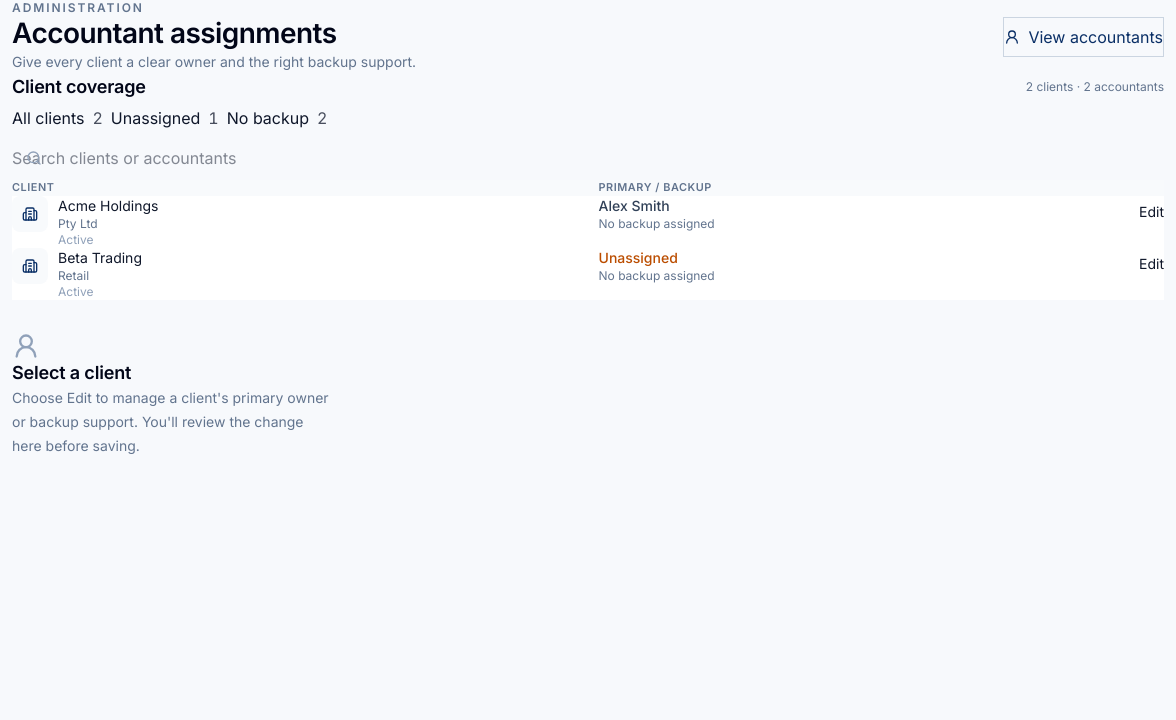
Test: assignment workspace › cancels unsaved changes without a request
Click the button with aria-label "Edit assignment for Acme Holdings" at (1152, 212), box [1139, 196, 1164, 228]
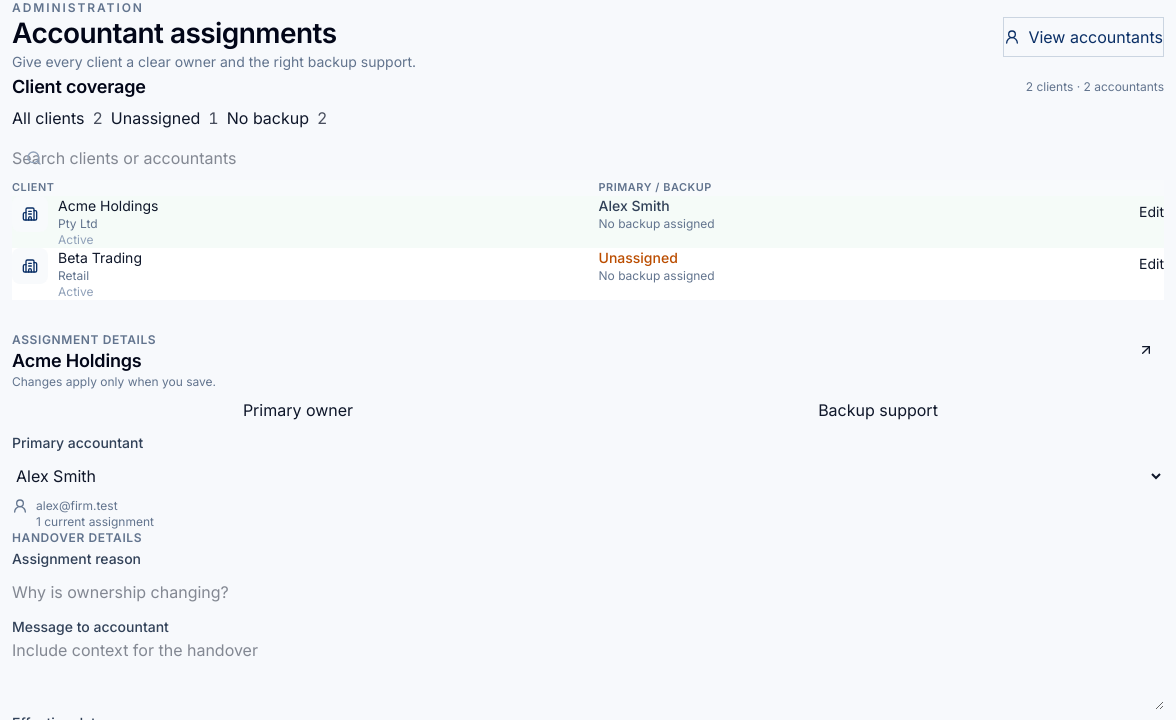
Select "Sam Jones" in the dropdown labelled "Primary accountant" at (588, 476), box [12, 454, 1164, 498]
(page scrolled)
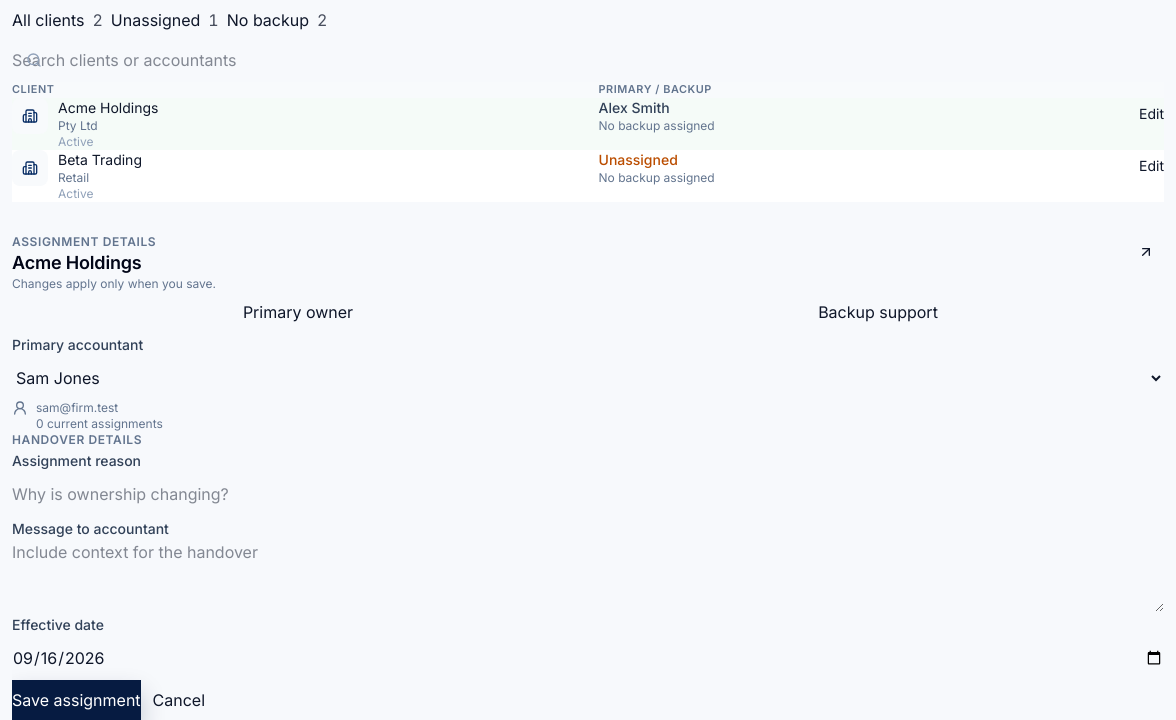
Click the button "Cancel" at (179, 700), box [153, 680, 205, 719]
(page scrolled)
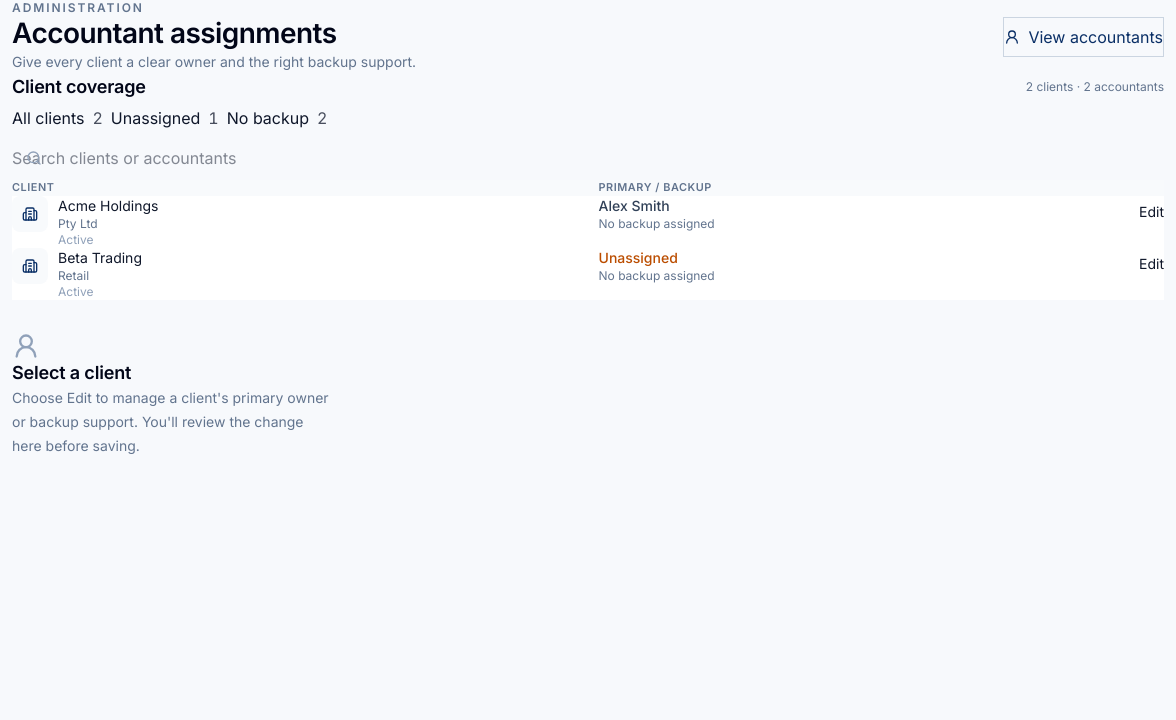
Check: the heading "Select a client" is shown, box [12, 362, 131, 382]
